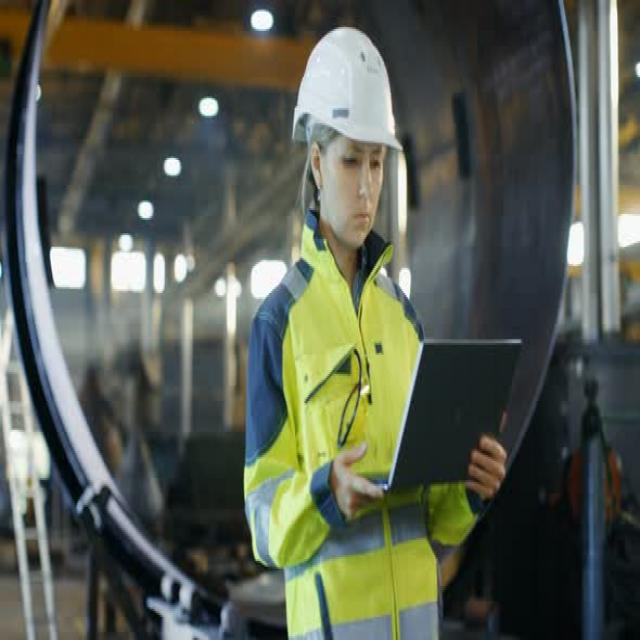Reflective-Jacket: (242, 232, 451, 628)
Safety-Helmet: (290, 19, 406, 160)
